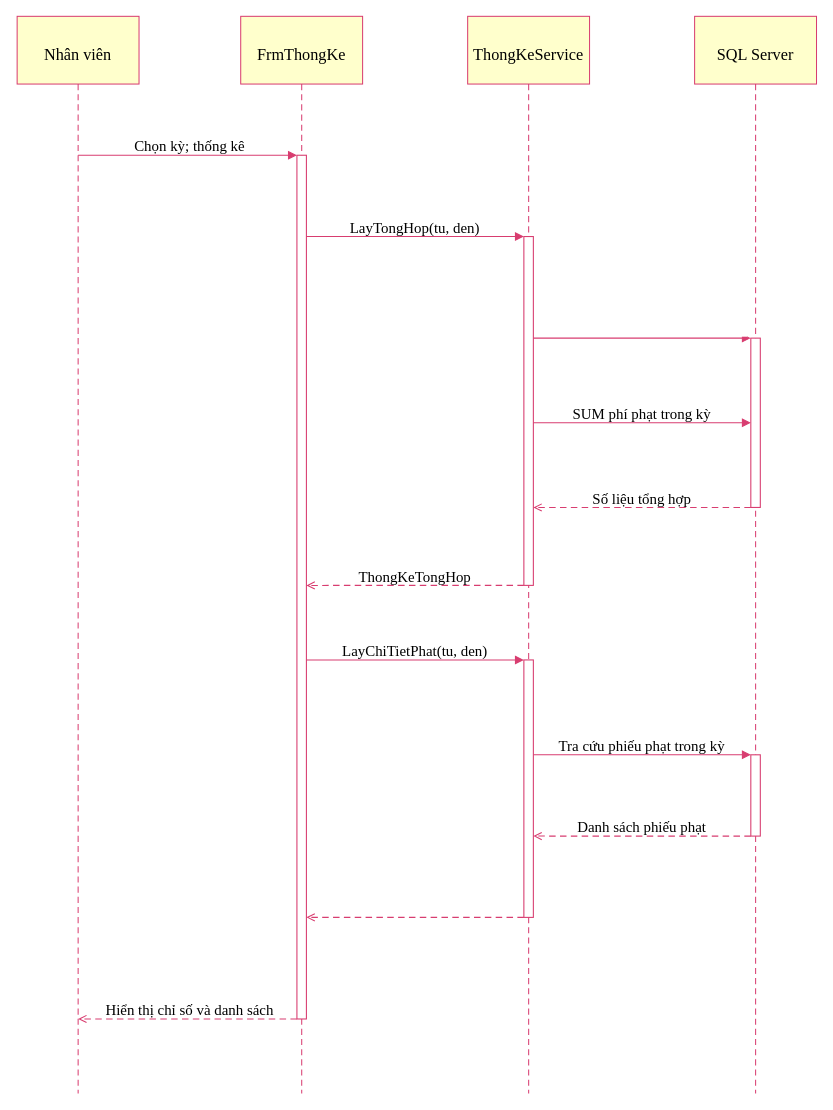
Image size: 833x1110. Some labels were removed from this diagram. Each missing label, with the centre of its shape:
"COUNT lượt mượn, quá hạn, mất, hư" belongs at pixel 642 317.
"DataTable" belongs at pixel 415 904.
